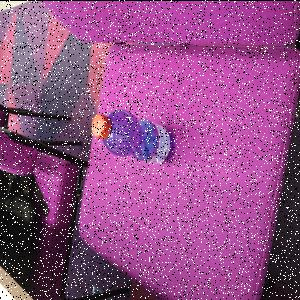Plastic-bottle: (91, 108, 177, 167)
